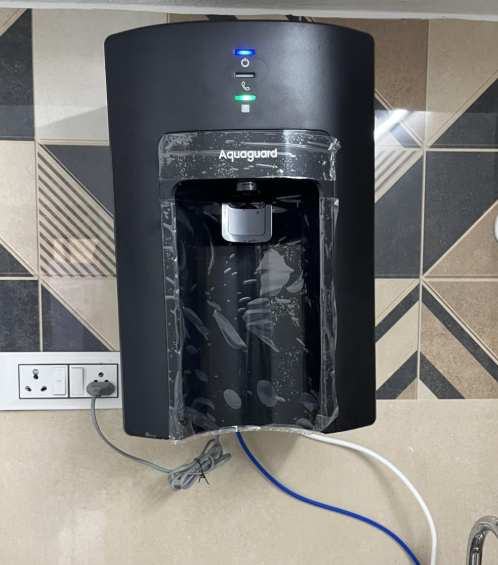water purifier: (102, 11, 384, 441)
